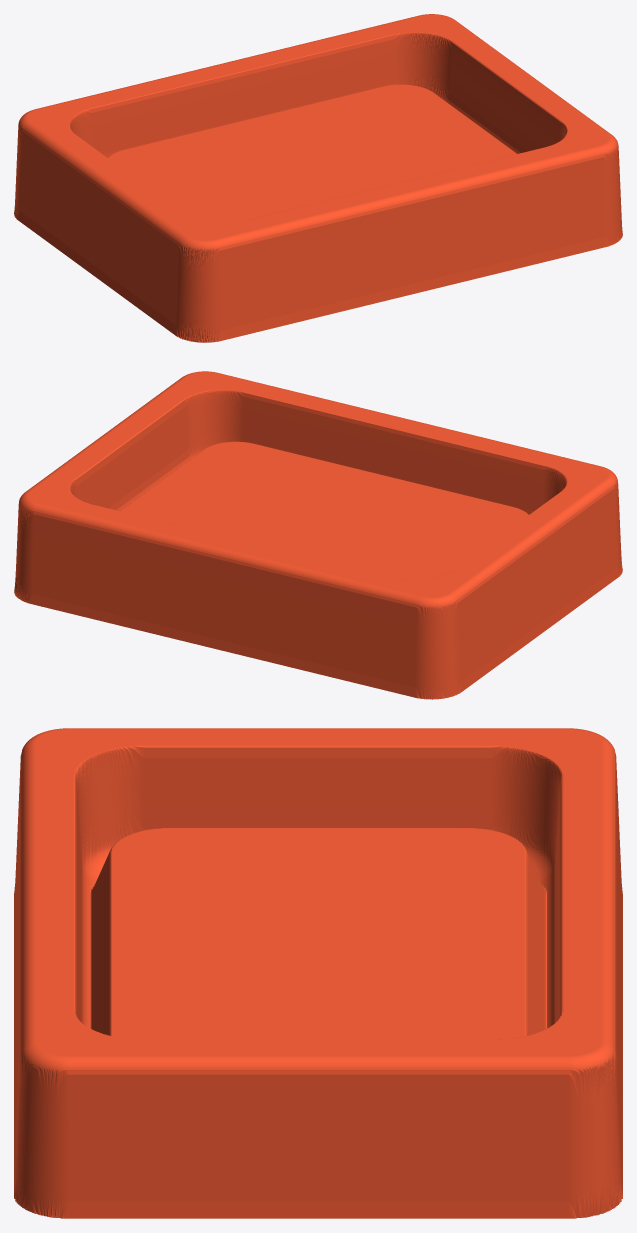
The model's file is mold.glb.
3 views of the same model, one above another, from view 1: azimuth 30°, elevation 25°; view 2: azimuth 150°, elevation 25°; view 3: azimuth 270°, elevation 25° (orthographic). The views are drawn at different scales.
Parts seen in each view (by area): view 1: geometry_0; view 2: geometry_0; view 3: geometry_0.
Boxes of the visible parts, x1,y1,x2,y2 form: geometry_0: (14, 14, 622, 342); geometry_0: (14, 371, 622, 699); geometry_0: (14, 728, 622, 1218).
Size of the model in its own units: 0.1348 by 0.028 by 0.1007.
